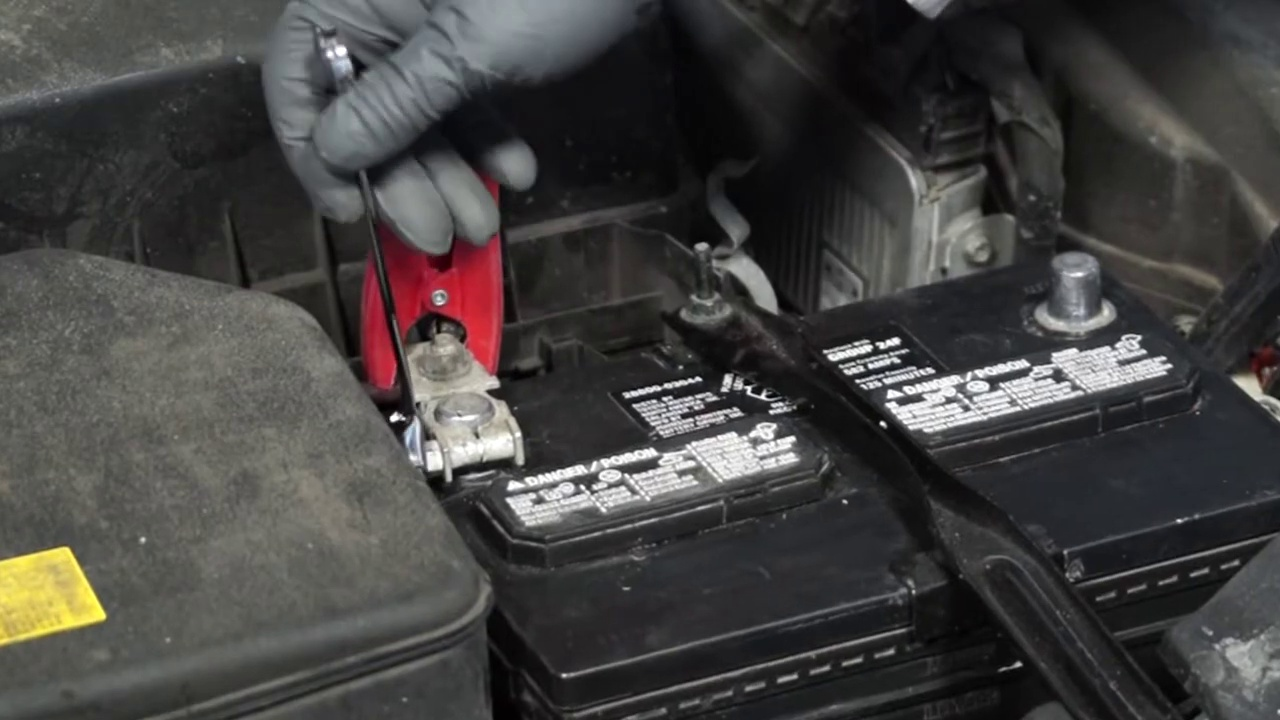battery: (371, 233, 1274, 554)
neg_disconnected: (1019, 232, 1141, 341)
pos_touched: (288, 71, 542, 486), (384, 271, 540, 497)
